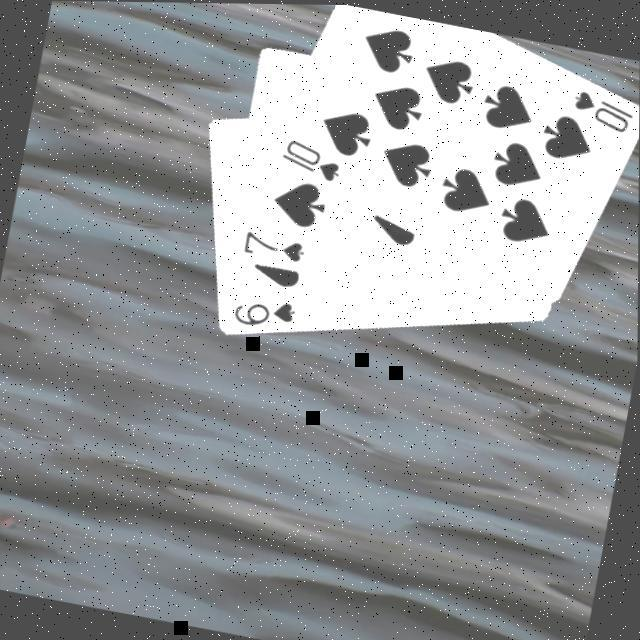10S: (564, 82, 638, 136), (273, 131, 345, 185)
6S: (228, 288, 299, 336)
7S: (237, 225, 307, 265)
